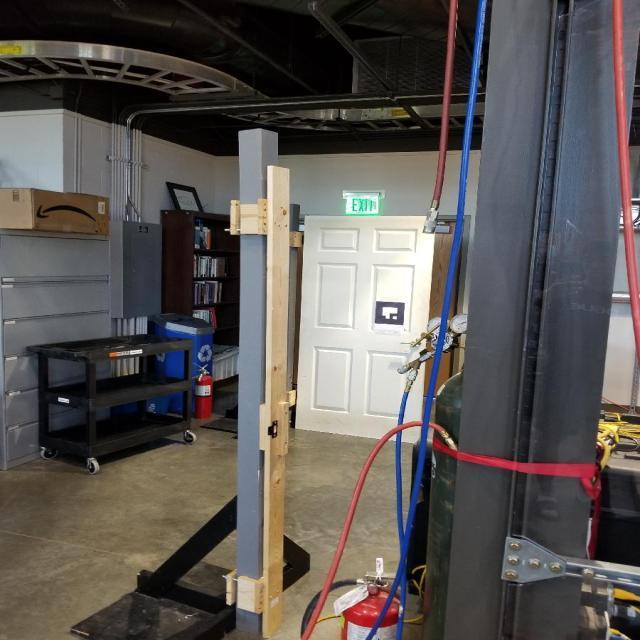door: (290, 212, 443, 448), (396, 338, 419, 348)
